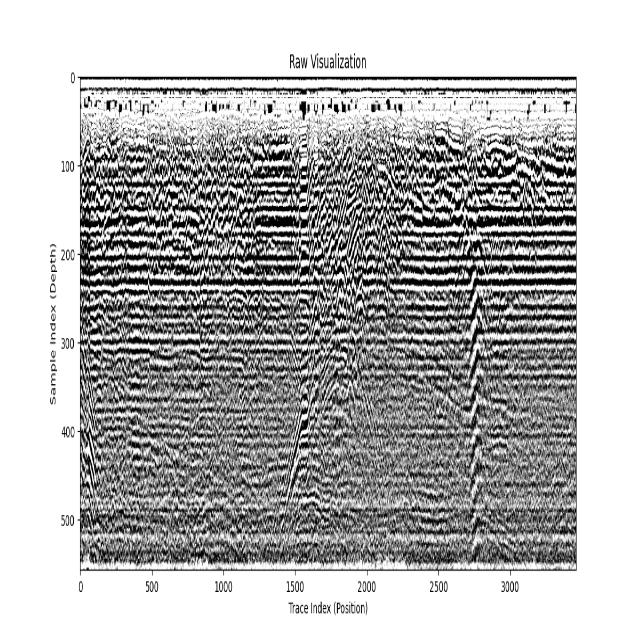anomaly: (274, 195, 398, 529), (463, 188, 484, 560)
